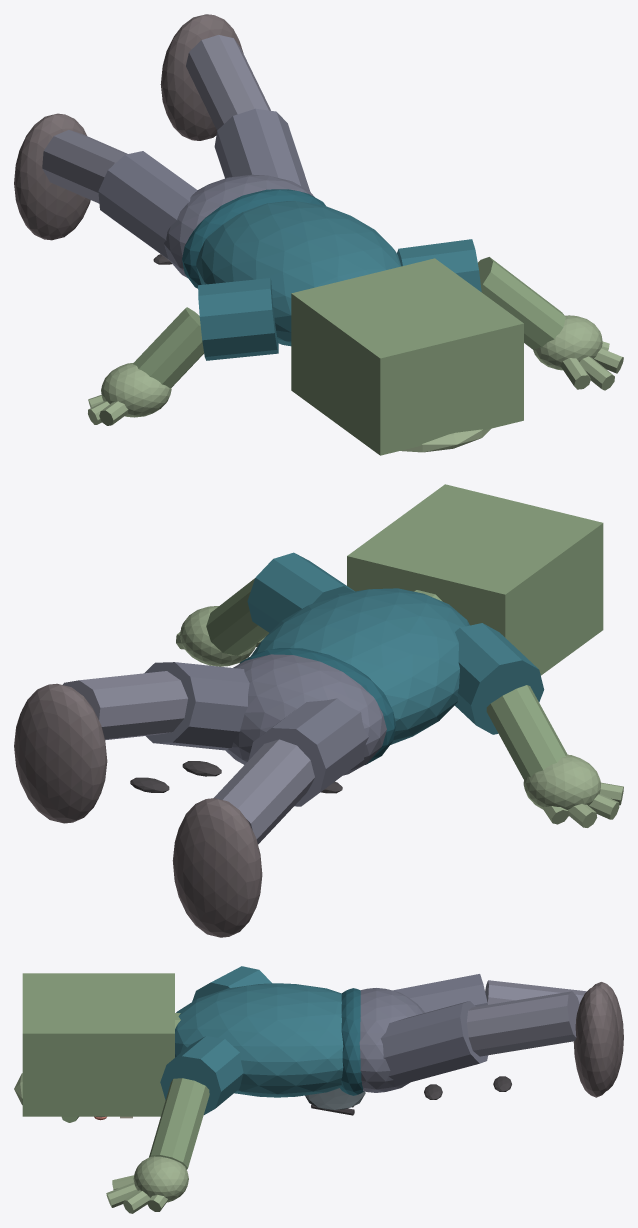
File: zombie_enemy_3d.glb
3 renders of one model, top to bottom at view 1: azimuth 30°, elevation 25°; view 2: azimuth 150°, elevation 25°; view 3: azimuth 270°, elevation 25°, orthographic. The views are drawn at different scales.
Visible parts, largest first — view 1: angular_green_head, torso_blue_tshirt, left_thigh, left_upper_sleeve, left_shoe, right_thigh, right_shin, right_shoe, left_shin, right_forearm, jeans_hips, left_forearm (+6 smaller); view 2: angular_green_head, torso_blue_tshirt, right_shoe, left_shoe, jeans_hips, right_thigh, right_shin, left_thigh, left_upper_sleeve, left_shin, right_upper_sleeve, left_forearm (+4 smaller); view 3: angular_green_head, torso_blue_tshirt, right_thigh, right_shin, right_shoe, jeans_hips, right_upper_sleeve, right_forearm, left_thigh, shirt_lower_hem, right_hand_palm, left_shin (+5 smaller).
Boxes of the visible parts, <box> form: angular_green_head: <box>291,258,523,455</box>; torso_blue_tshirt: <box>196,201,401,346</box>; left_thigh: <box>98,151,197,259</box>; left_upper_sleeve: <box>198,278,278,360</box>; left_shoe: <box>14,113,90,240</box>; right_thigh: <box>214,108,310,191</box>; right_shin: <box>186,35,270,130</box>; right_shoe: <box>160,14,243,140</box>; left_shin: <box>42,130,127,203</box>; right_forearm: <box>478,257,565,350</box>; jeans_hips: <box>164,174,314,277</box>; left_forearm: <box>133,307,204,388</box>; angular_green_head: <box>347,484,603,675</box>; torso_blue_tshirt: <box>251,588,469,744</box>; right_shoe: <box>14,683,107,823</box>; left_shoe: <box>172,798,262,937</box>; jeans_hips: <box>225,654,386,775</box>; right_thigh: <box>144,662,249,750</box>; right_shin: <box>62,671,187,739</box>; left_thigh: <box>248,698,368,806</box>; left_upper_sleeve: <box>455,623,544,734</box>; left_shin: <box>213,739,314,844</box>; right_upper_sleeve: <box>247,552,354,632</box>; left_forearm: <box>486,685,567,779</box>; angular_green_head: <box>22,973,174,1116</box>; torso_blue_tshirt: <box>175,983,343,1097</box>; right_thigh: <box>380,1001,487,1086</box>; right_shin: <box>466,991,579,1056</box>; right_shoe: <box>573,986,618,1097</box>; jeans_hips: <box>359,988,424,1092</box>; right_upper_sleeve: <box>160,1036,243,1114</box>; right_forearm: <box>149,1078,209,1169</box>; left_thigh: <box>393,974,487,1012</box>; shirt_lower_hem: <box>340,988,363,1095</box>; right_hand_palm: <box>133,1156,188,1202</box>; left_shin: <box>485,980,586,1004</box>.
Bounding box in the file's own units: 2.62 × 1.07 × 3.52.
